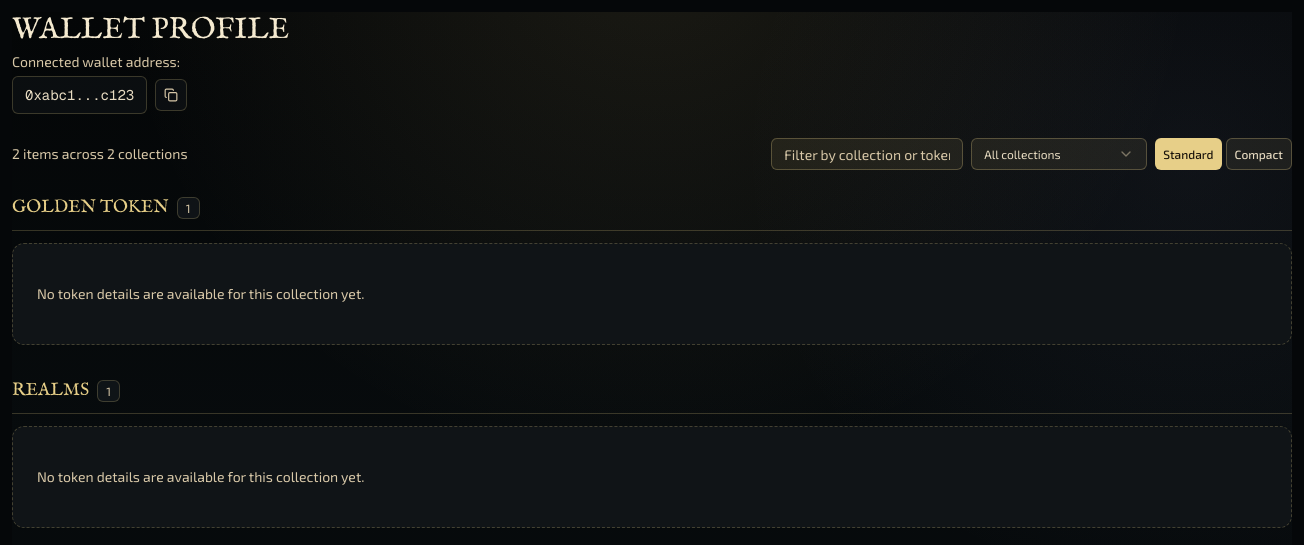
Test: WalletProfileView › filters_items_by_selected_collection
This screenshot has width=1304, height=545.
Click the dropdown named "filter by collection" at (1059, 154), box [971,138,1147,170]
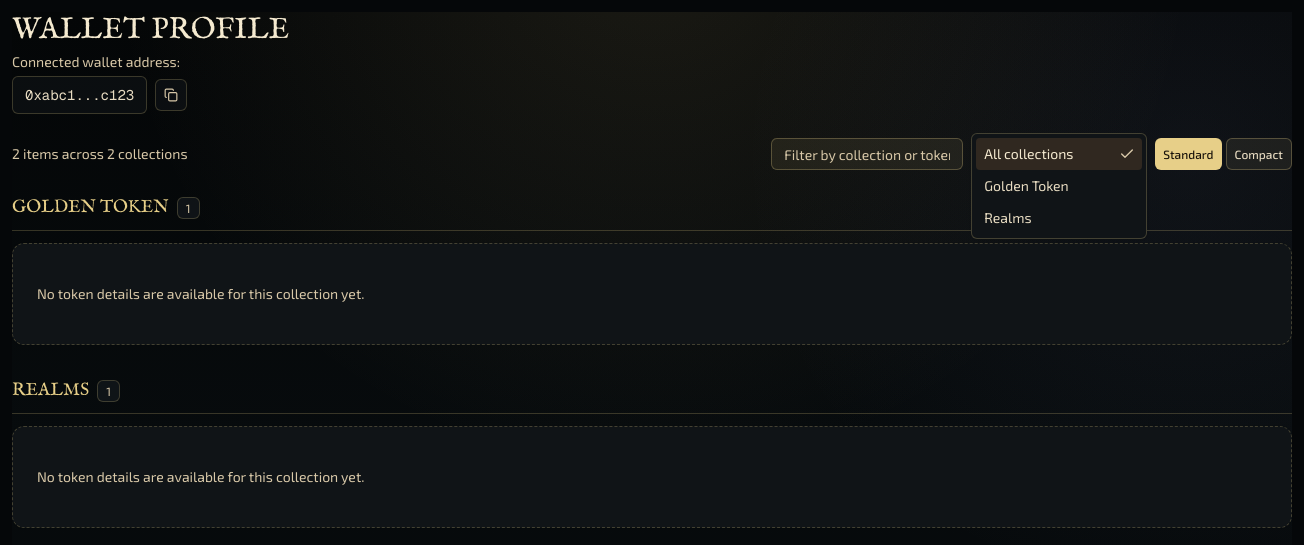
Click the option "Golden Token" at (1027, 186), box [984,177,1069,194]
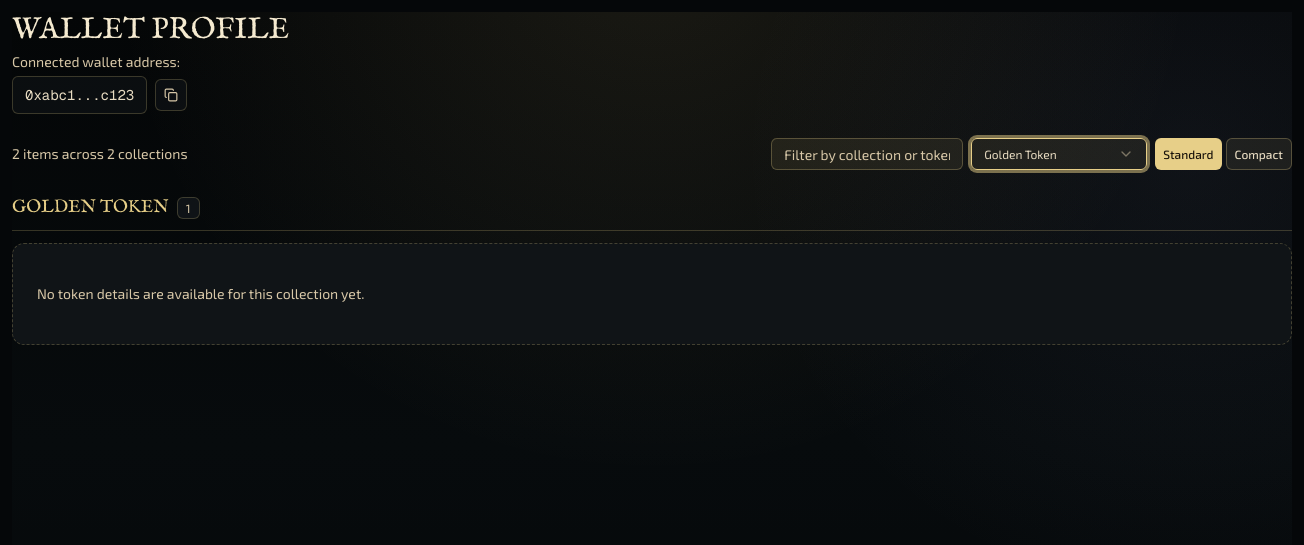
Check: the text "Golden Token" is shown 2 times, box [984,146,1057,162]; [12,194,169,222]
Check: the heading "Realms" is gone
